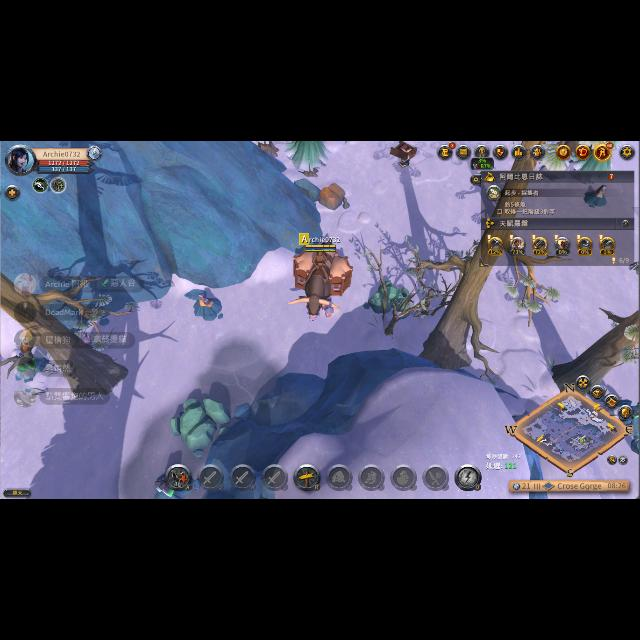mine_ii: (194, 293, 222, 315)
mine_iii: (153, 476, 175, 499), (16, 357, 38, 378)
